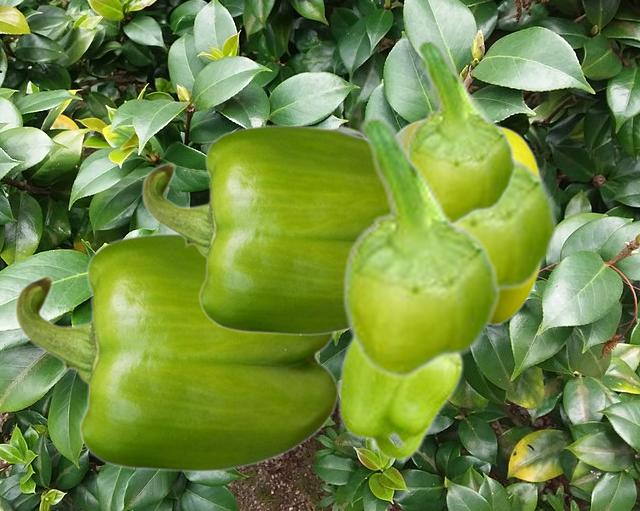bell_pepper: (14, 232, 336, 472), (141, 124, 388, 335), (341, 115, 500, 378), (410, 48, 558, 296), (398, 118, 540, 326), (404, 39, 516, 224), (336, 335, 467, 461)
